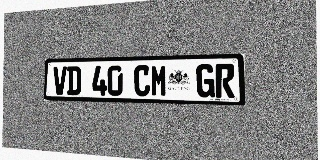0: (107, 65, 123, 96)
4: (92, 66, 107, 96)
C: (134, 65, 150, 96)
D: (67, 66, 81, 95)
G: (196, 64, 215, 98)
M: (151, 65, 167, 97)
R: (215, 64, 235, 98)
V: (53, 66, 67, 95)
